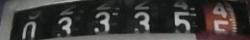digits: (165, 1, 202, 37), (212, 1, 238, 34), (133, 11, 150, 29), (94, 11, 110, 30), (21, 21, 37, 39), (57, 16, 72, 33)
